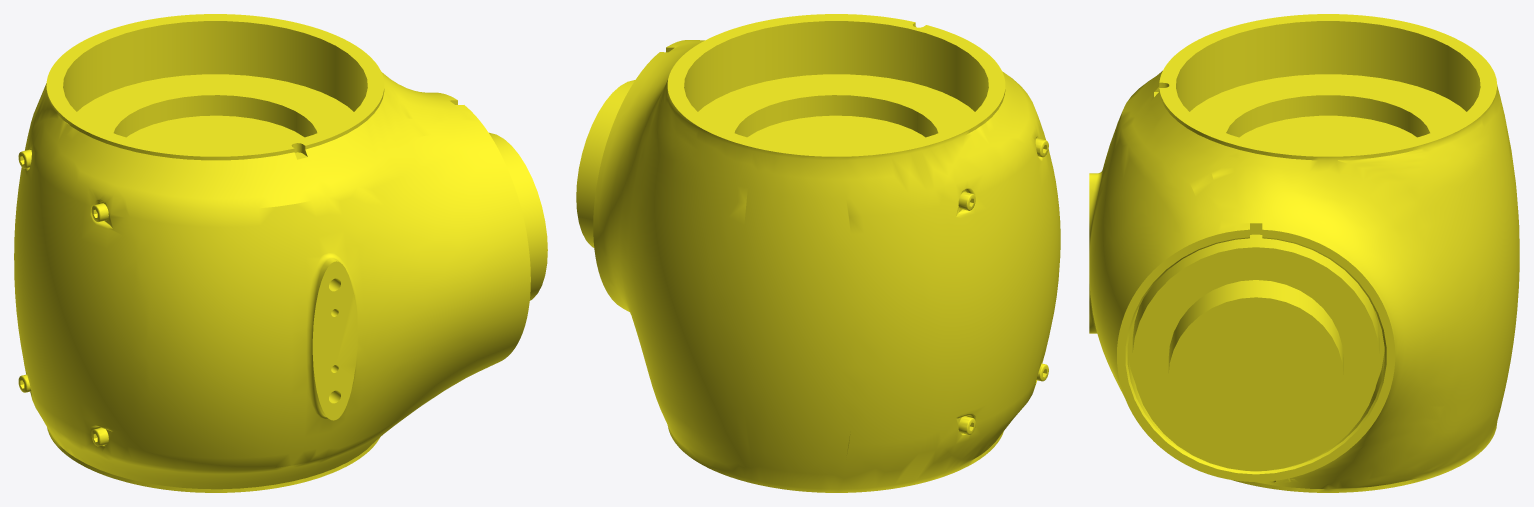
3 renders of one model, left to right at view 1: azimuth 30°, elevation 25°; view 2: azimuth 150°, elevation 25°; view 3: azimuth 270°, elevation 25°, orthographic.
Parts seen in each view (by area): view 1: /Link3/Link3_002-mesh/0; view 2: /Link3/Link3_002-mesh/0; view 3: /Link3/Link3_002-mesh/0.
Boxes of the visible parts, left/top/right/bottom form: /Link3/Link3_002-mesh/0: left=14, top=14, right=547, bottom=492; /Link3/Link3_002-mesh/0: left=576, top=14, right=1060, bottom=492; /Link3/Link3_002-mesh/0: left=1089, top=14, right=1519, bottom=492.
Bounding box in the file's own units: 0.2429 × 0.18 × 0.209.
